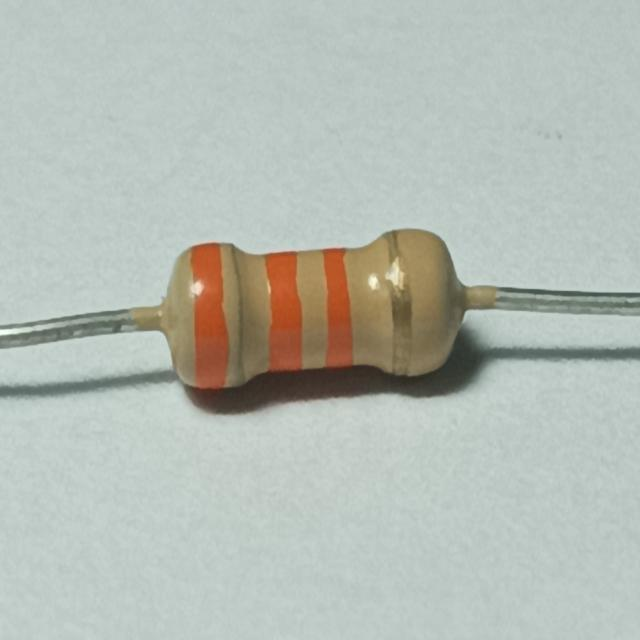33k ohms: (146, 222, 483, 404)
